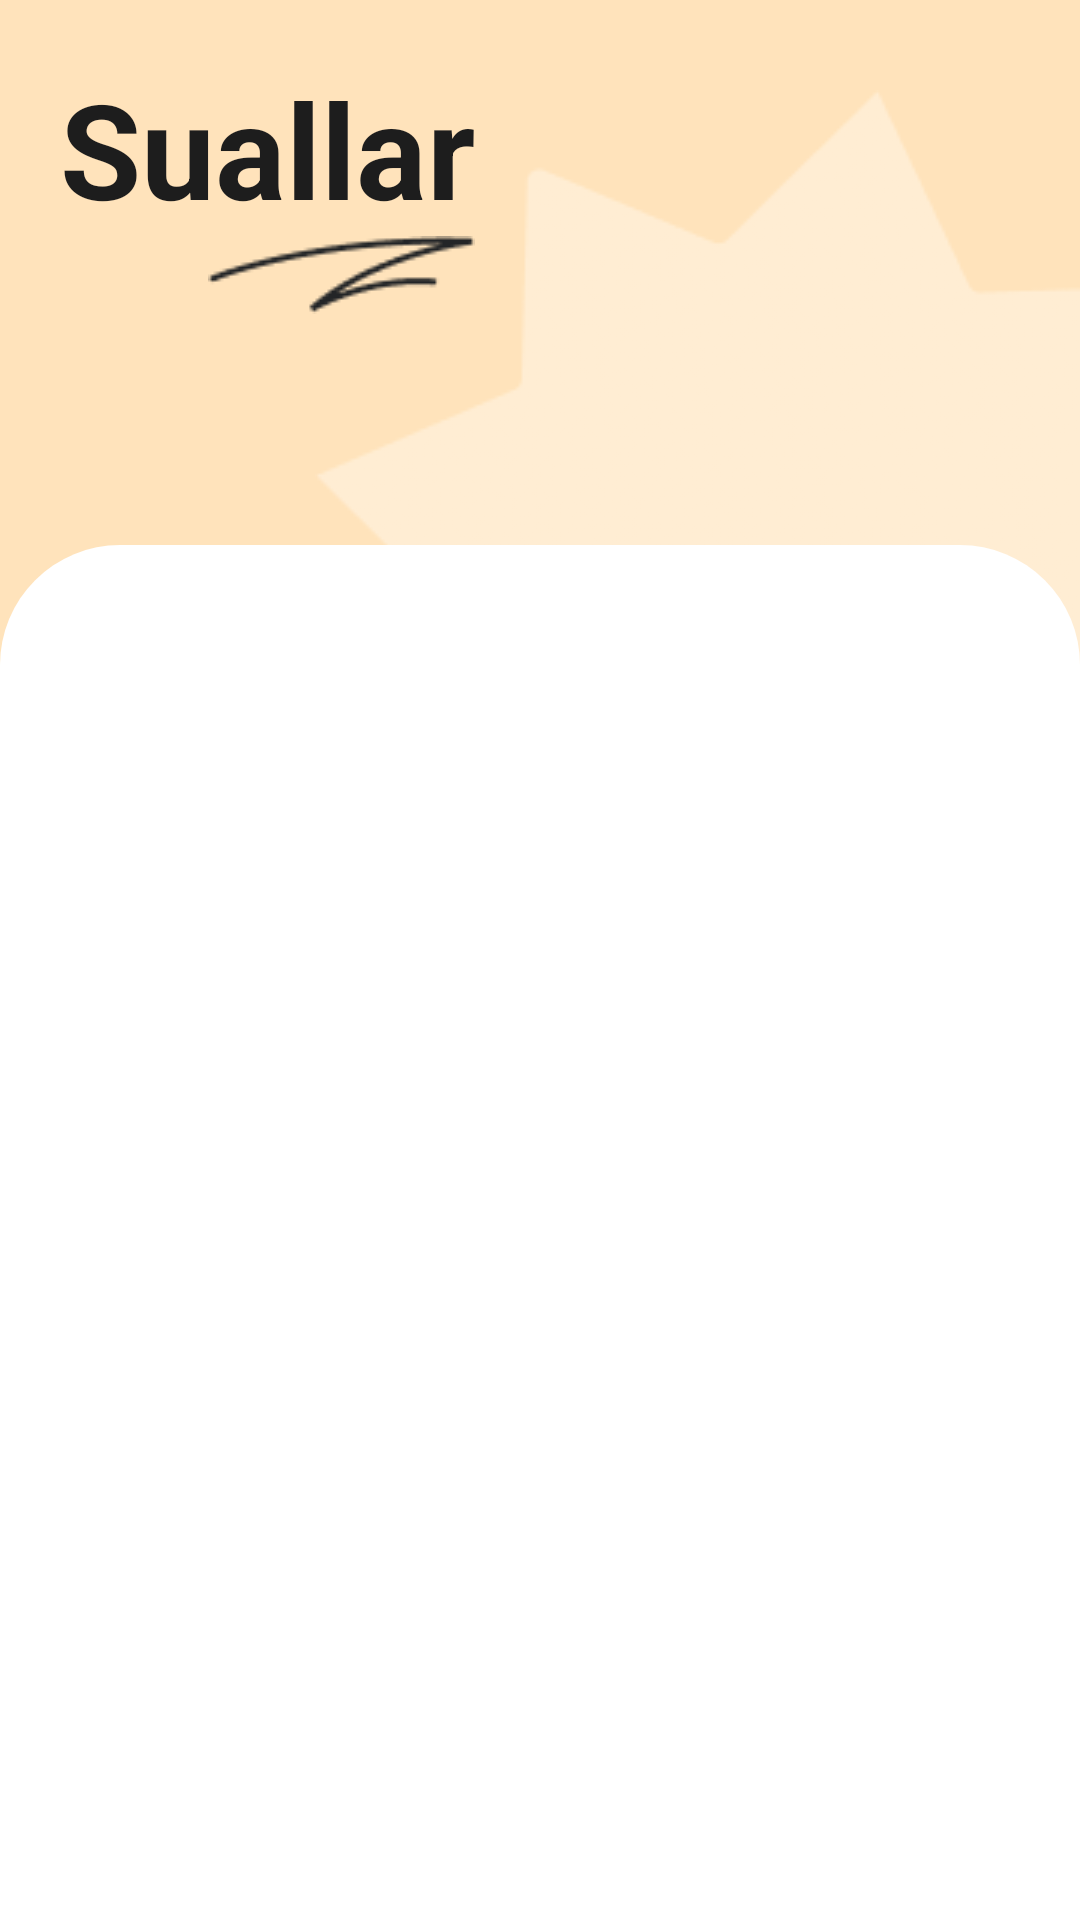

Screen size 1080px x 1920px. Icon name, then its box in pixels as (x1, y1, x2, y2):
signature: (208, 236, 475, 312)
